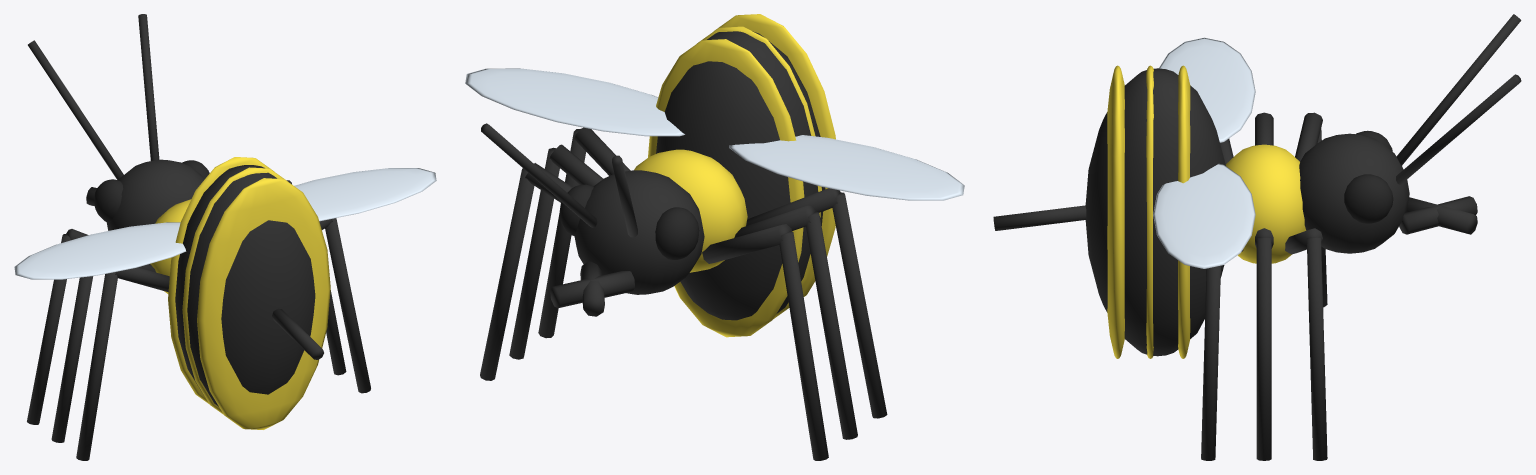
Rendered from wasp.glb.
The picture shows the model from 3 angles, left to right: view 1: azimuth 30°, elevation 25°; view 2: azimuth 150°, elevation 25°; view 3: azimuth 270°, elevation 25°; orthographic projection. The views are drawn at different scales.
Parts seen in each view (by area): view 1: abdomen_mesh, stripe0, wing_meshL, wing_meshR, head_mesh, legL3_lo_mesh, legR3_lo_mesh, legL2_lo_mesh, stripe2, legL1_lo_mesh, stripe1, antennaL_mesh (+6 smaller); view 2: abdomen_mesh, head_mesh, wing_meshL, wing_meshR, stripe2, thorax_mesh, legL1_lo_mesh, legL2_lo_mesh, stripe0, legL3_lo_mesh, legR1_lo_mesh, legR2_lo_mesh (+13 smaller); view 3: abdomen_mesh, head_mesh, wing_meshR, thorax_mesh, wing_meshL, stripe0, legR2_lo_mesh, legR1_lo_mesh, legR3_lo_mesh, stripe2, stripe1, antennaL_mesh (+8 smaller).
Boxes of the visible parts, <box> form: abdomen_mesh: <box>175,165,315,406</box>; stripe0: <box>197,178,330,429</box>; wing_meshL: <box>14,222,186,279</box>; wing_meshR: <box>294,168,436,221</box>; head_mesh: <box>106,159,204,230</box>; legL3_lo_mesh: <box>76,272,117,460</box>; legR3_lo_mesh: <box>325,218,370,393</box>; legL2_lo_mesh: <box>51,276,93,442</box>; stripe2: <box>168,157,272,403</box>; legL1_lo_mesh: <box>27,234,70,424</box>; stripe1: <box>182,167,287,414</box>; antennaL_mesh: <box>28,40,123,179</box>; abdomen_mesh: <box>656,31,825,320</box>; head_mesh: <box>574,170,704,294</box>; wing_meshL: <box>729,135,964,200</box>; wing_meshR: <box>465,68,684,136</box>; stripe2: <box>648,39,804,337</box>; thorax_mesh: <box>634,149,747,272</box>; legL1_lo_mesh: <box>779,231,828,460</box>; legL2_lo_mesh: <box>805,211,857,439</box>; stripe0: <box>714,14,835,296</box>; legL3_lo_mesh: <box>832,192,887,418</box>; legR1_lo_mesh: <box>480,168,534,380</box>; legR2_lo_mesh: <box>509,147,559,359</box>; abdomen_mesh: <box>1085,68,1225,356</box>; head_mesh: <box>1299,133,1409,253</box>; wing_meshR: <box>1153,163,1255,268</box>; thorax_mesh: <box>1225,144,1306,263</box>; wing_meshL: <box>1159,37,1255,142</box>; stripe0: <box>1107,65,1124,358</box>; legR2_lo_mesh: <box>1256,237,1271,460</box>; legR1_lo_mesh: <box>1306,237,1327,460</box>; legR3_lo_mesh: <box>1201,265,1220,460</box>; stripe2: <box>1178,65,1190,358</box>; stripe1: <box>1146,65,1153,358</box>; antennaL_mesh: <box>1396,14,1521,165</box>.
Bounding box in the file's own units: 1.28 × 0.871 × 1.23.
